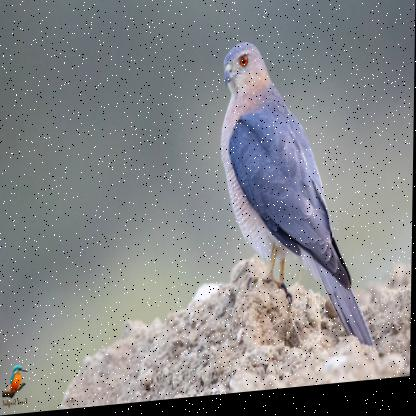Burung: (219, 36, 380, 367)
